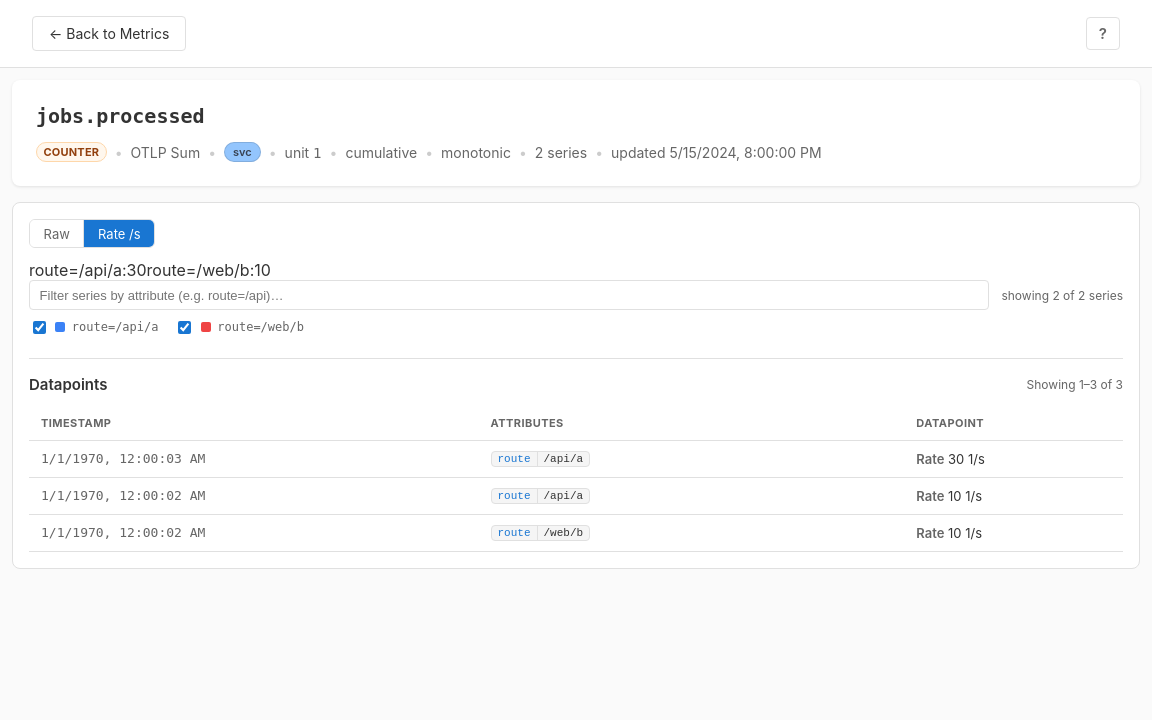
Test: defaults a monotonic cumulative sum to rate, and toggles to raw
Expected: the heading "jobs.processed" is shown, [36,104,205,128]
Expected: the text "OTLP Sum" is shown, [130,144,200,160]
Click the button "Raw" at (57,234), box [30,220,84,247]
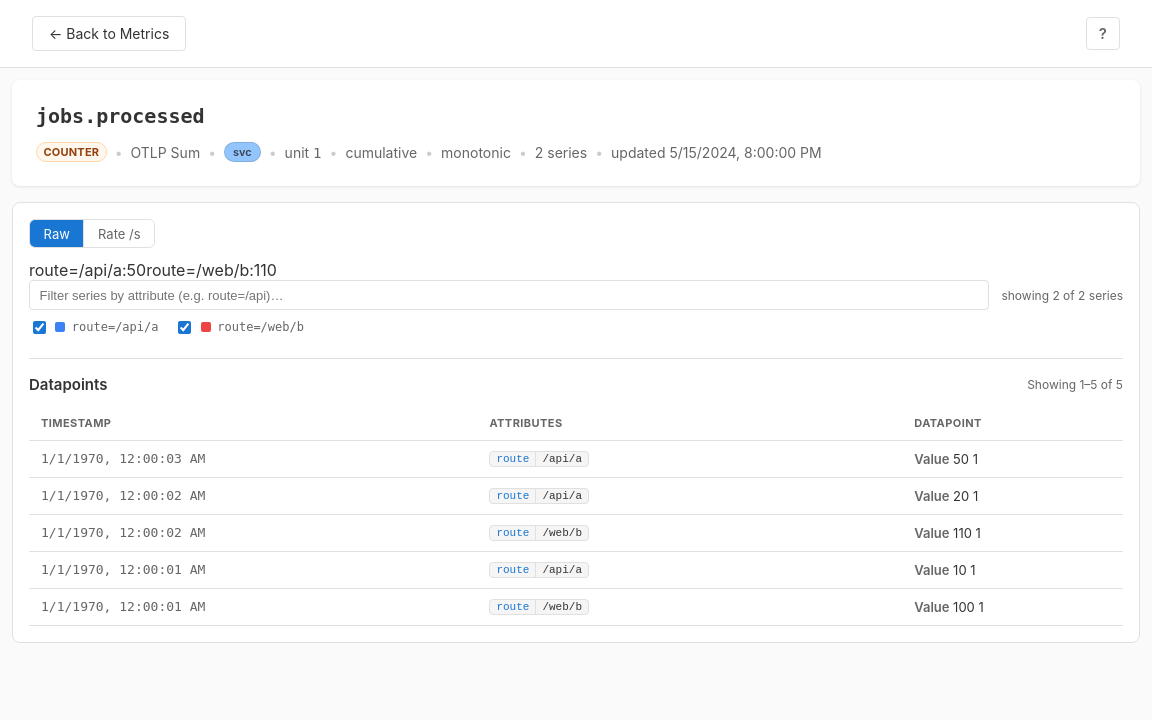
Expected: the element with test id "uplot-mock" shows "route=/api/a:50", [29,260,146,280]
